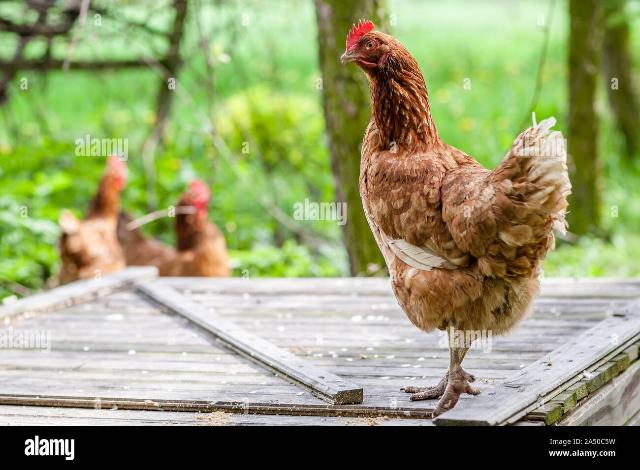Chicken: (340, 19, 572, 422)
